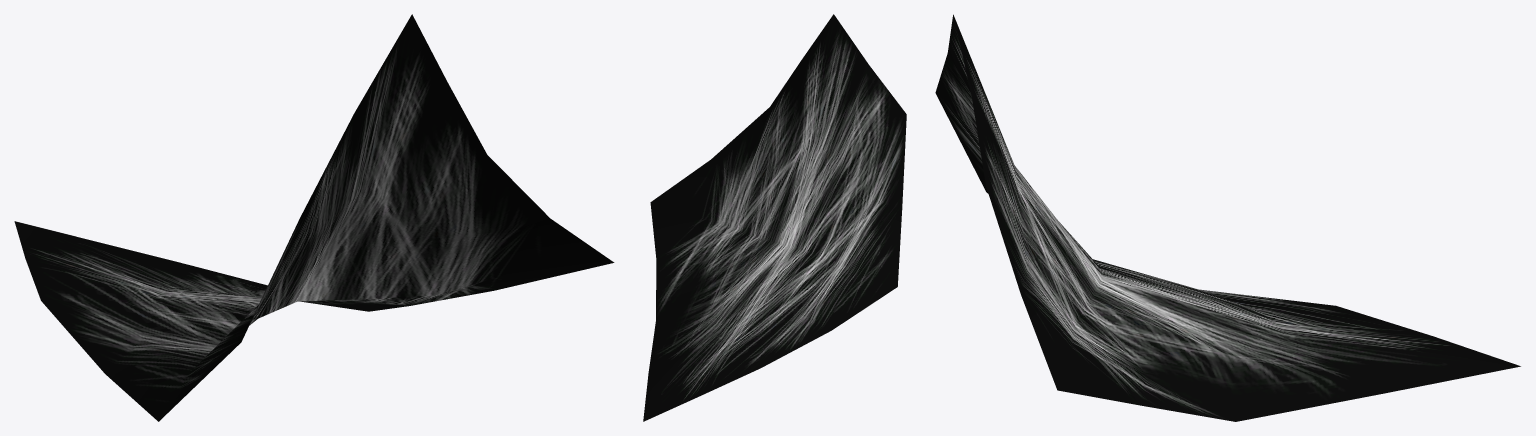
Rendered from SWORDLIGHT20_PS-AREA01_CORNERWEB19.fbx.
The picture shows the model from 3 angles, left to right: view 1: azimuth 30°, elevation 25°; view 2: azimuth 150°, elevation 25°; view 3: azimuth 270°, elevation 25°; orthographic projection. The views are drawn at different scales.
Visible parts, largest first — view 1: SWORDLIGHT20_PS-AREA01_CORNERWEB19; view 2: SWORDLIGHT20_PS-AREA01_CORNERWEB19; view 3: SWORDLIGHT20_PS-AREA01_CORNERWEB19.
Boxes of the visible parts, x1,y1,x2,y2 form: SWORDLIGHT20_PS-AREA01_CORNERWEB19: (14,14,614,421); SWORDLIGHT20_PS-AREA01_CORNERWEB19: (643,14,906,421); SWORDLIGHT20_PS-AREA01_CORNERWEB19: (935,14,1520,421).
Size of the model in its own units: 54127 by 53902 by 79415.
1 material, 1 textured.
